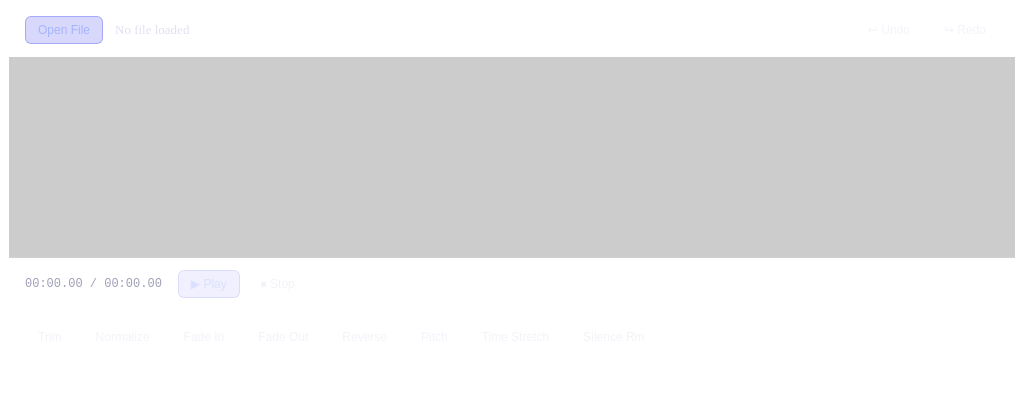
Scenario: WaveEditor Component › Processing State › processing state shows "Applying..." label during edit operation
Click the button "Open File" at (64, 30), box 25,16 -> 103,44
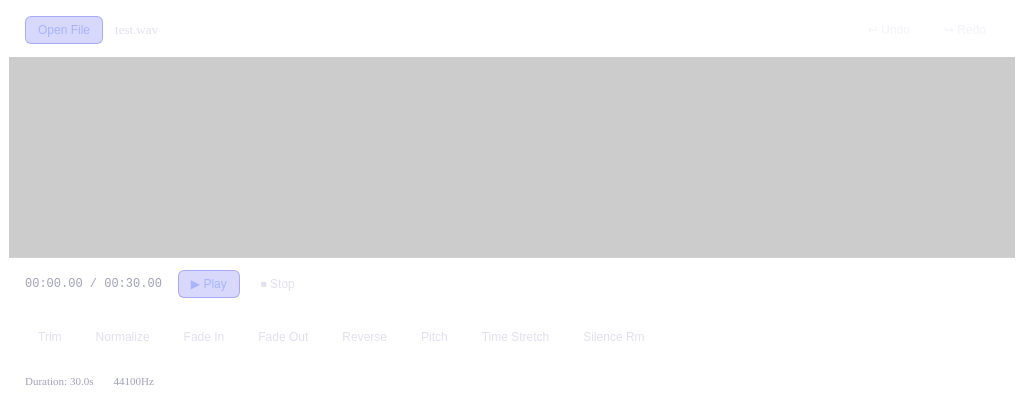
Click the button "Normalize" at (122, 337), box 82,323 -> 162,351
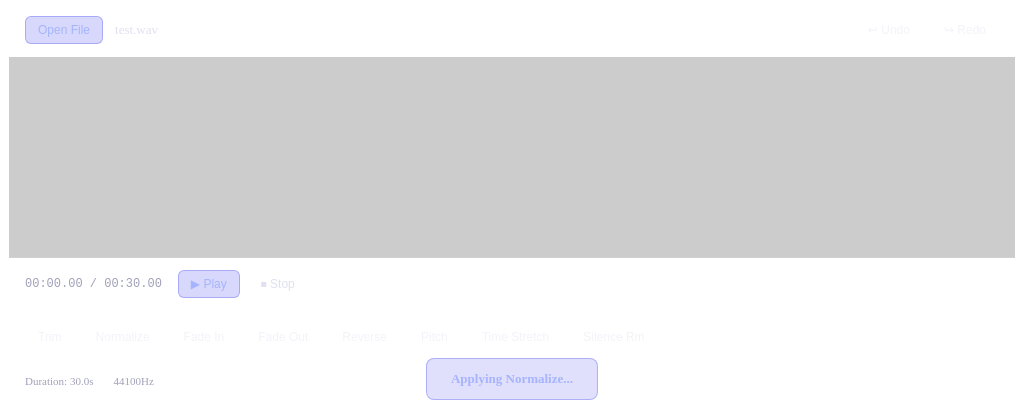
Expected: the text "Applying Normalize..." is shown, 426,358 -> 598,398
